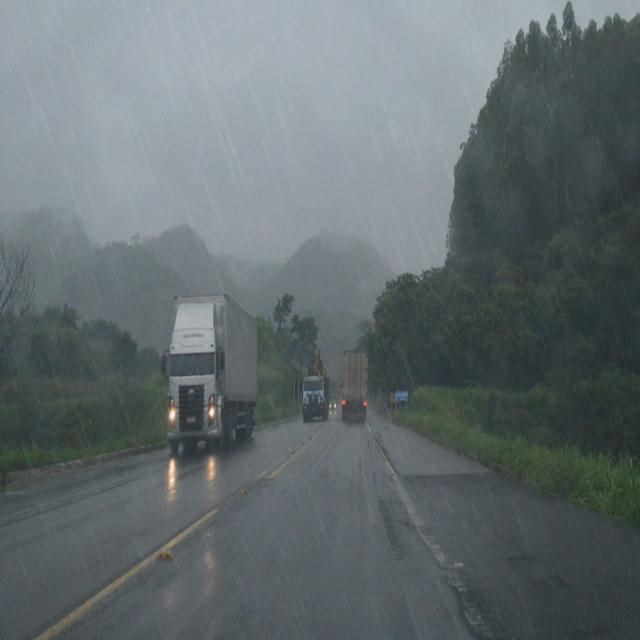bus: (161, 294, 263, 456), (342, 350, 367, 420), (302, 354, 329, 418)
